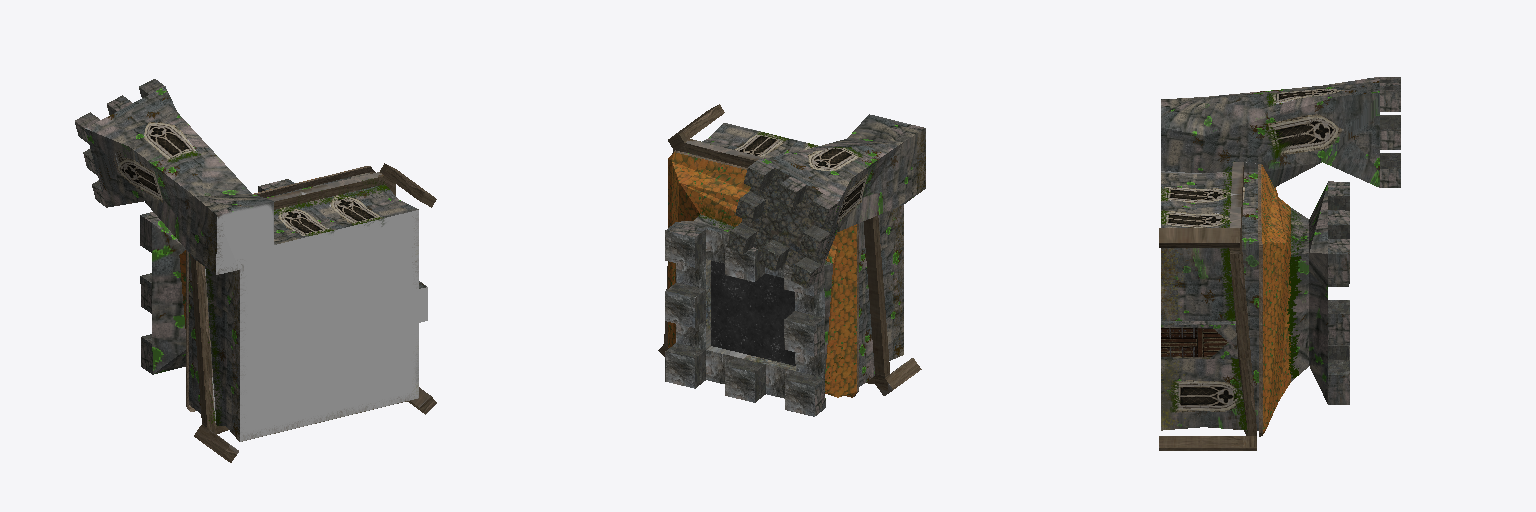
3 renders of one model, left to right at view 1: azimuth 30°, elevation 25°; view 2: azimuth 150°, elevation 25°; view 3: azimuth 270°, elevation 25°, orthographic.
Parts seen in each view (by area): view 1: Plane_Plane; view 2: Plane_Plane; view 3: Plane_Plane.
Boxes of the visible parts, box(x1,y1,x2,y2) form: Plane_Plane: box(75, 79, 436, 462); Plane_Plane: box(658, 104, 925, 416); Plane_Plane: box(1159, 77, 1400, 450).
Size of the model in its own units: 7.5 by 8.47 by 6.51.
1 materials, 1 textured.